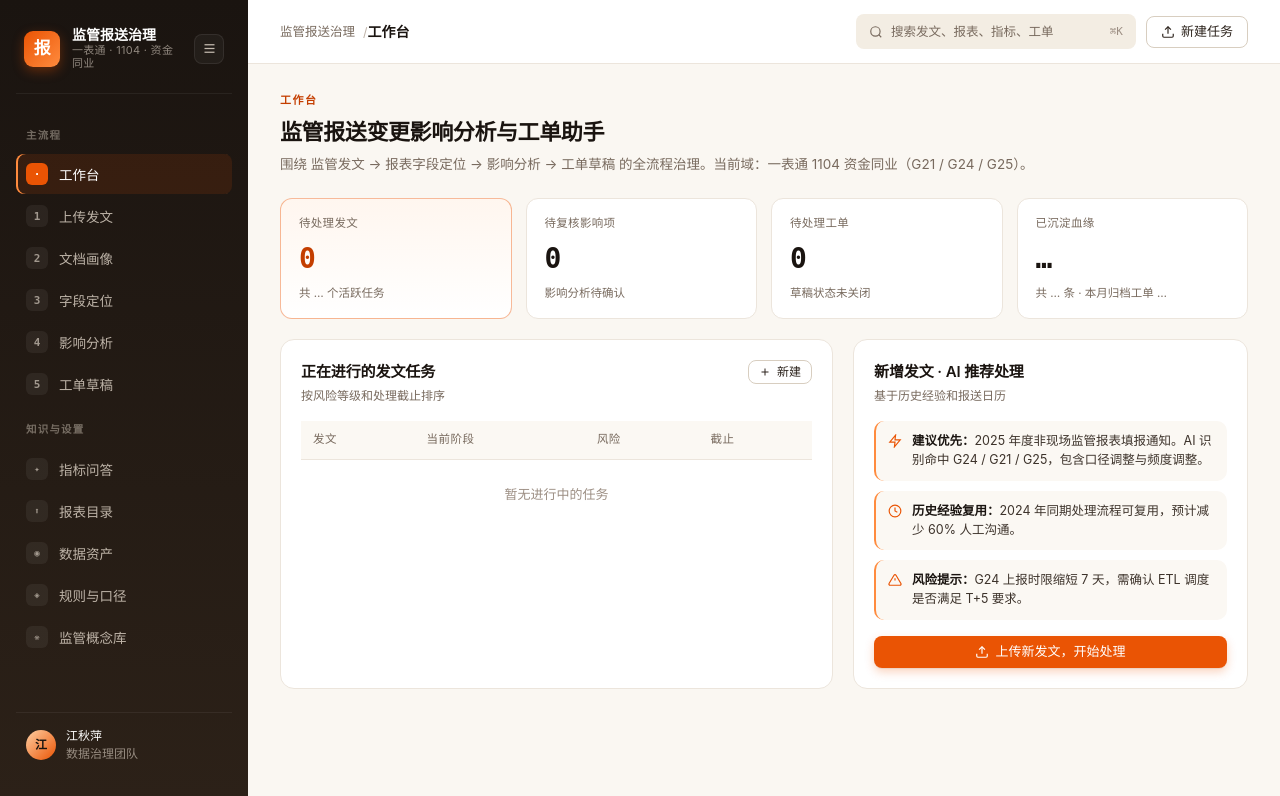
Test: App › renders the core pages and switches navigation
Step 1. Click the button "1 上传发文" → click(124, 216), box x1=16 y1=196 x2=232 y2=236
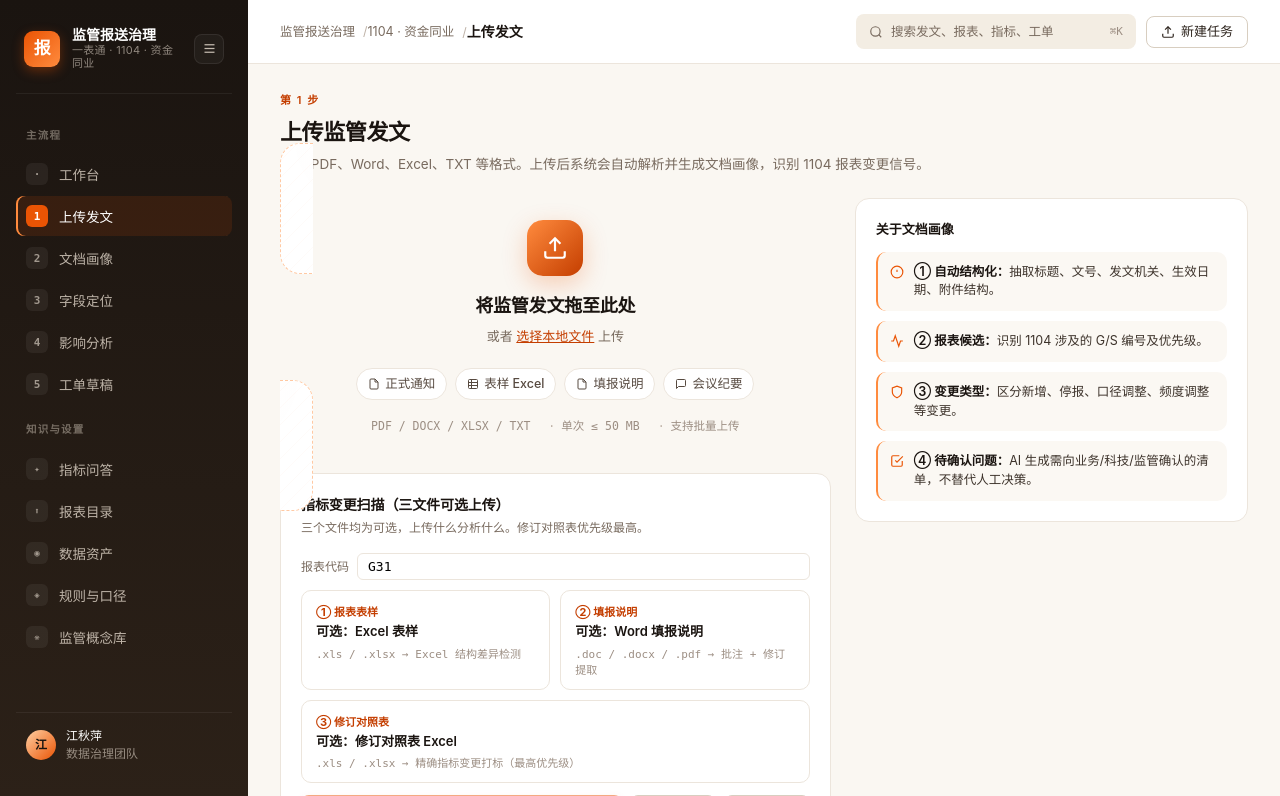
expect the text "上传监管发文" is shown: met, box x1=280 y1=119 x2=410 y2=145
expect the text "指标变更扫描" is shown: met, box x1=301 y1=496 x2=510 y2=513
